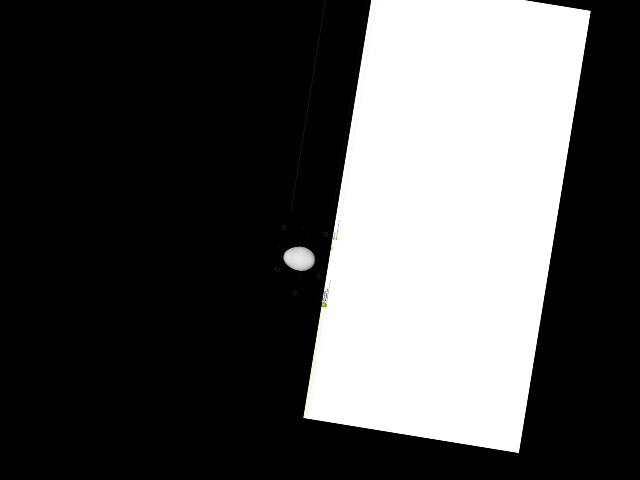egg: (281, 243, 317, 272)
